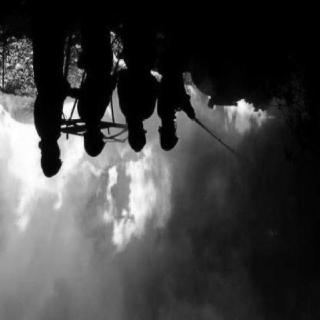Fire: (2, 96, 170, 256)
